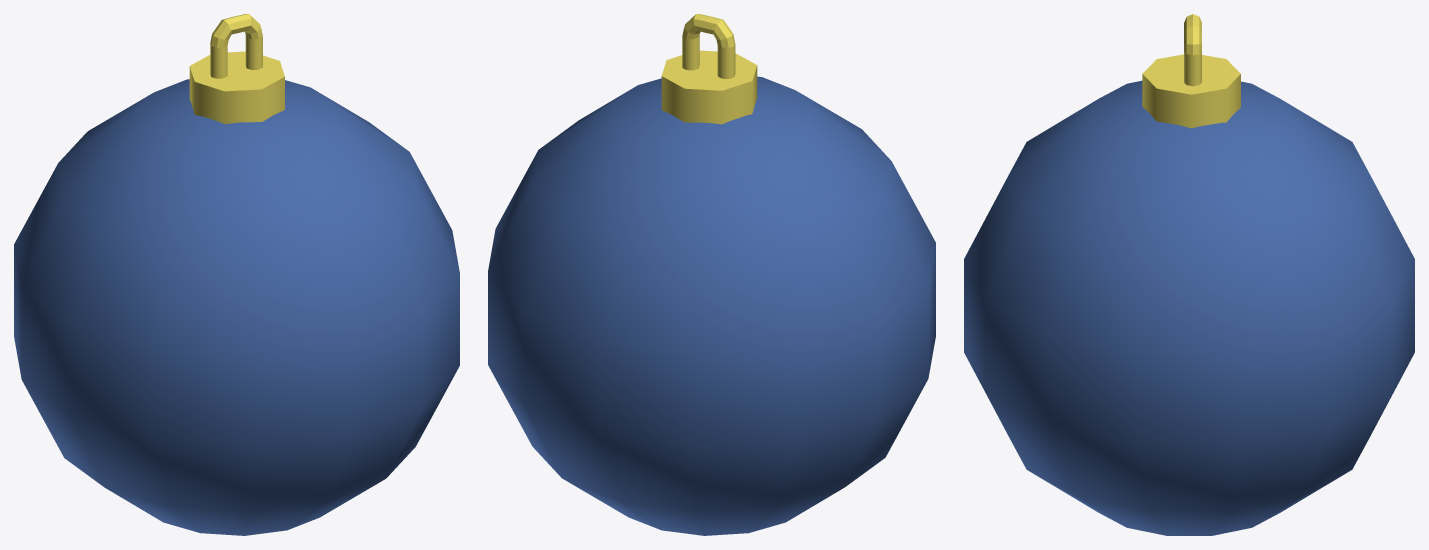
The model's file is M_Ball_03.FBX.
The picture shows the model from 3 angles, left to right: view 1: azimuth 30°, elevation 25°; view 2: azimuth 150°, elevation 25°; view 3: azimuth 270°, elevation 25°; orthographic projection.
Parts seen in each view (by area): view 1: Sphere004; view 2: Sphere004; view 3: Sphere004.
Part boxes in pixels (x1,y1,x2,y2): Sphere004: (14, 14, 459, 535); Sphere004: (488, 14, 935, 535); Sphere004: (964, 14, 1414, 535).
Bounding box in the file's own units: 21.83 × 27.2 × 22.39.
